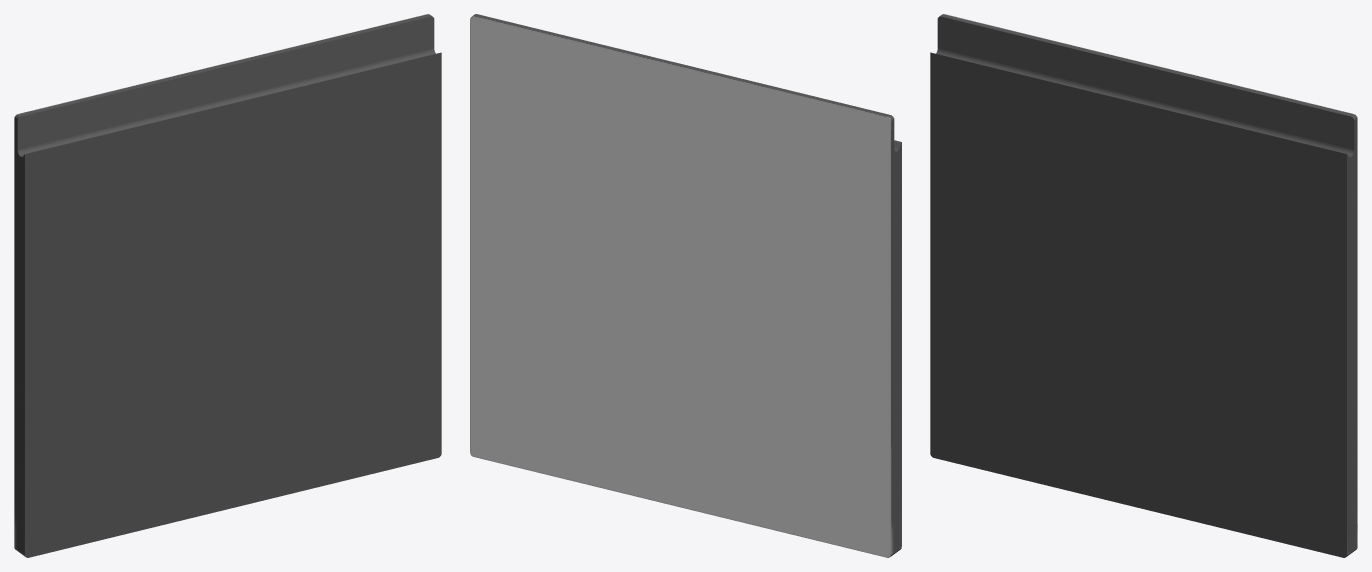
3 renders of one model, left to right at view 1: azimuth 30°, elevation 25°; view 2: azimuth 150°, elevation 25°; view 3: azimuth 330°, elevation 25°, orthographic.
Visible parts, largest first — view 1: node_id3; view 2: node_id3; view 3: node_id3.
Part boxes in pixels (box(x1,y1,x2,y2)): node_id3: box(14, 14, 441, 557); node_id3: box(470, 14, 901, 557); node_id3: box(930, 14, 1357, 557).
Size of the model in its own units: 0.512 by 0.512 by 0.023.
1 material, 1 textured.
